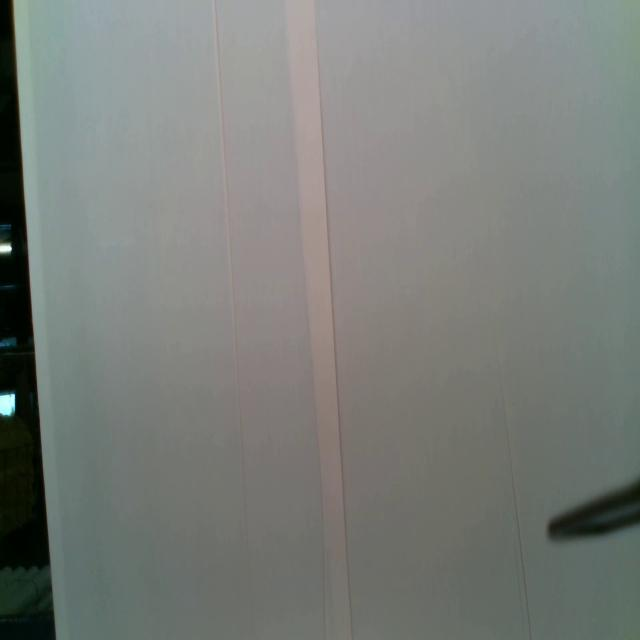crease: (285, 0, 355, 640), (209, 0, 252, 604), (491, 319, 534, 639)
